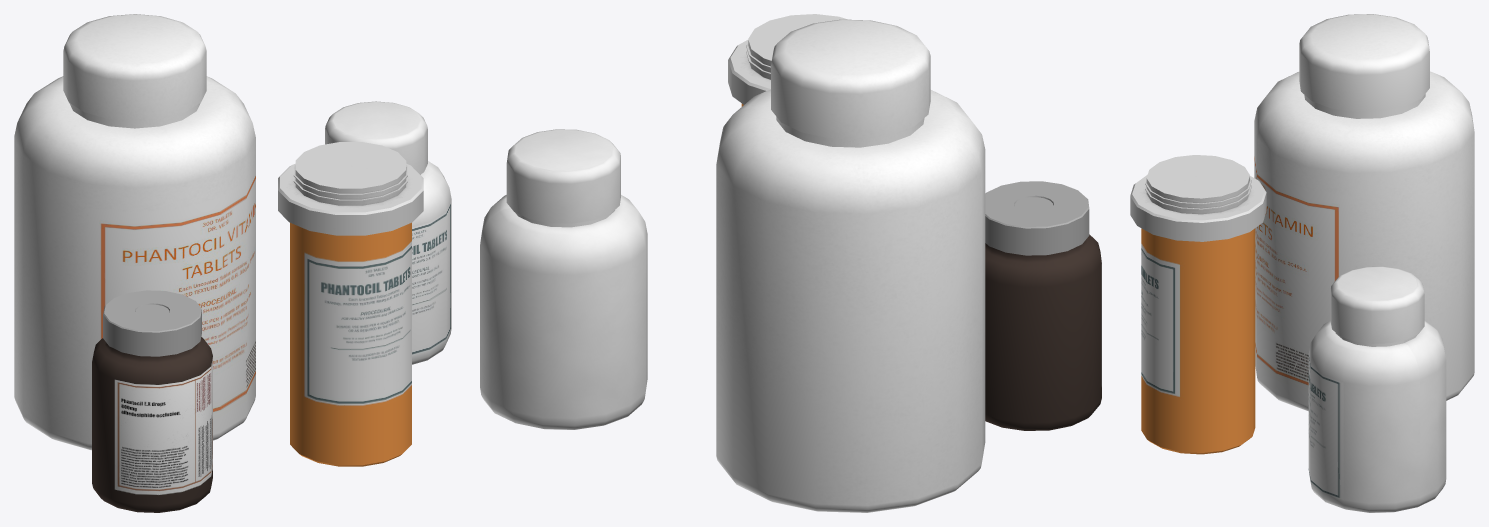
File: Drugs.obj
3 views of the same model, side by side, from view 1: azimuth 30°, elevation 25°; view 2: azimuth 150°, elevation 25°; view 3: azimuth 270°, elevation 25° (orthographic). The views are drawn at different scales.
Parts seen in each view (by area): view 1: Pill_Bottle-02_Plane.002, Phantocil_Plane.003, Small_Drug_Bottle_Cylinder, Pill_Bottle-01_Plane; view 2: Pill_Bottle-02_Plane.002, Pill_Bottle-01_Plane, Small_Drug_Bottle_Cylinder, Phantocil_Plane.003; view 3: Pill_Bottle-02_Plane.002, Phantocil_Plane.003, Pill_Bottle-01_Plane.
Boxes of the visible parts, x1,y1,x2,y2 form: Pill_Bottle-02_Plane.002: [14, 14, 255, 450]; Phantocil_Plane.003: [278, 142, 423, 466]; Small_Drug_Bottle_Cylinder: [92, 290, 212, 512]; Pill_Bottle-01_Plane: [325, 101, 451, 364]; Pill_Bottle-02_Plane.002: [716, 19, 985, 512]; Pill_Bottle-01_Plane: [480, 129, 647, 429]; Small_Drug_Bottle_Cylinder: [985, 181, 1101, 430]; Phantocil_Plane.003: [728, 14, 847, 106]; Pill_Bottle-02_Plane.002: [1254, 14, 1474, 411]; Phantocil_Plane.003: [1130, 155, 1266, 454]; Pill_Bottle-01_Plane: [1308, 266, 1446, 512].
Bounding box in the file's own units: 1.62 × 1.29 × 1.19.
